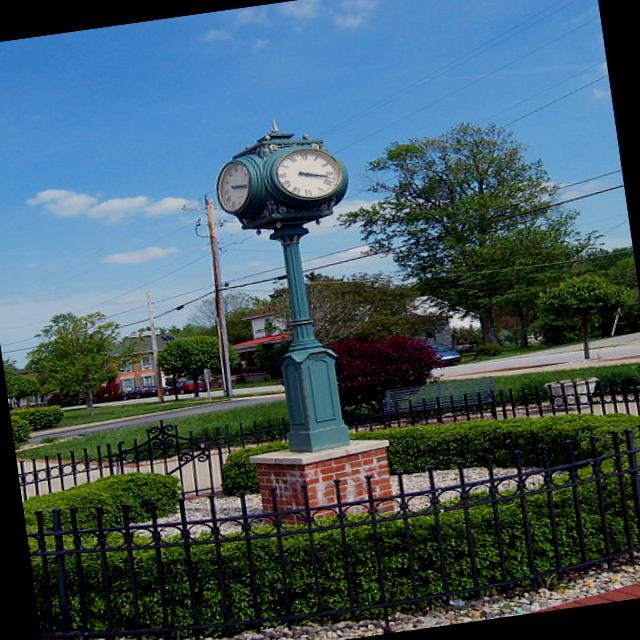Vehicle: (424, 338, 462, 366), (162, 378, 212, 398), (120, 383, 160, 401)
